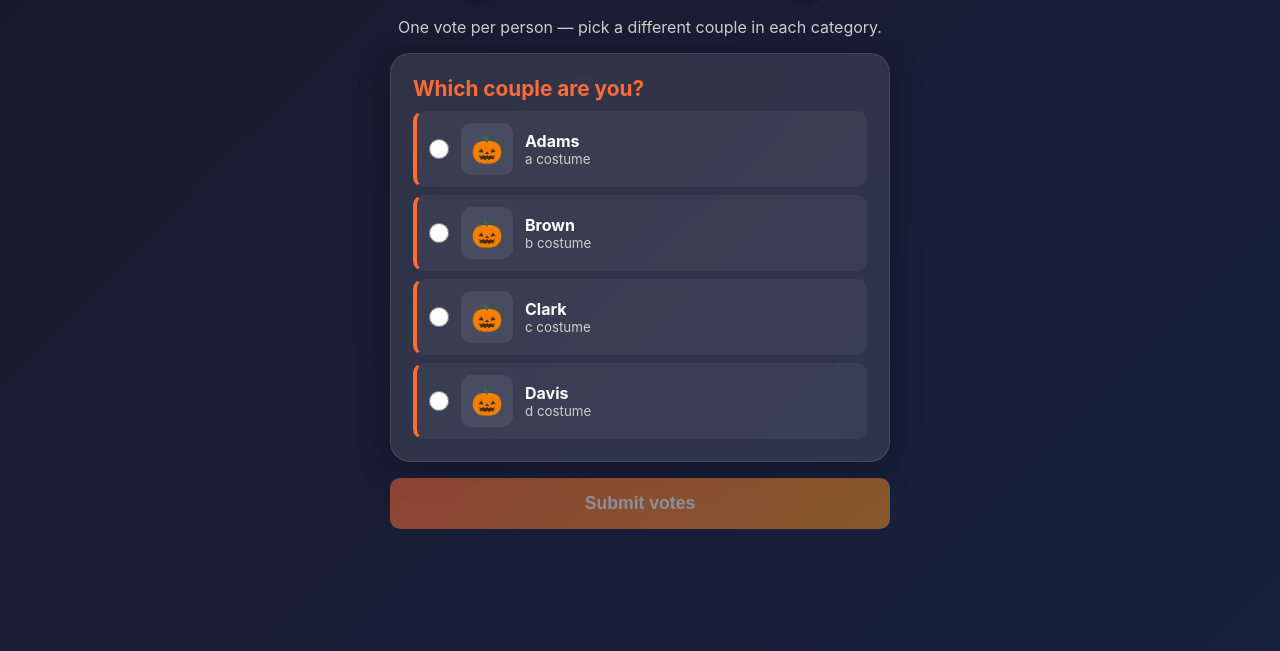
Test case: Vote form › shows an error when both slots are rejected
Click the radio button labelled "🎃 Brown b costume": coordinates (439, 233) top-left (429, 223), bottom-right (449, 243)
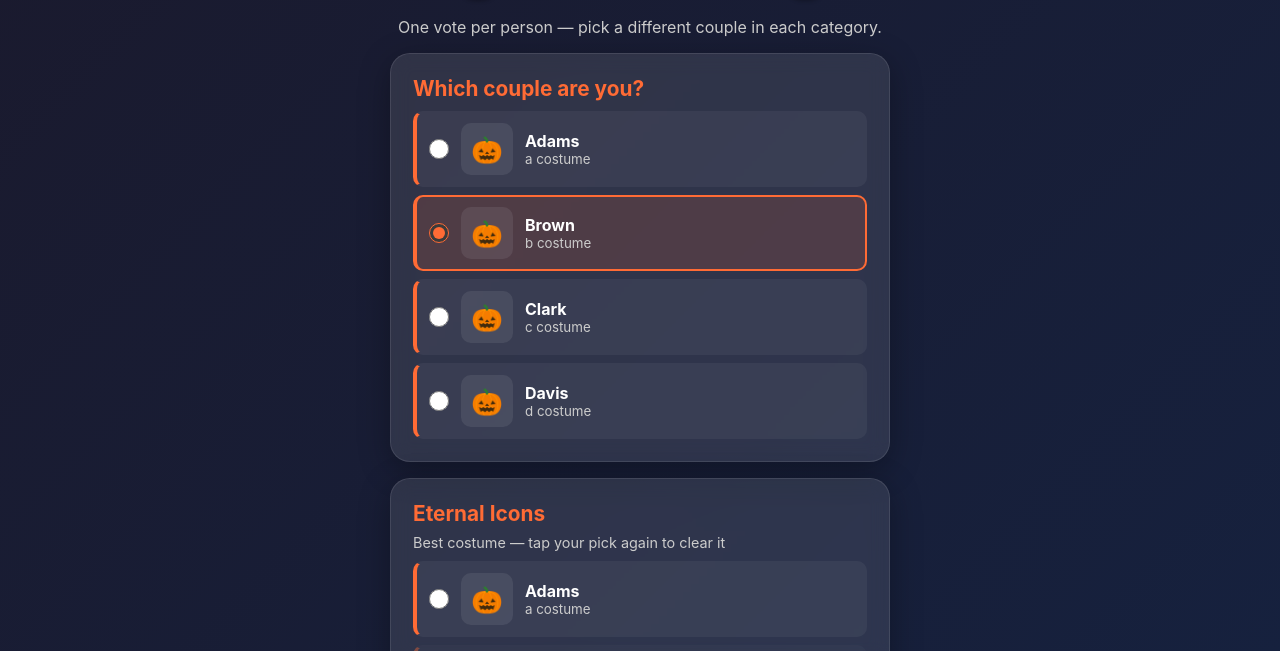
Click the radio button labelled "🎃 Adams a costume" below "Best costume": coordinates (439, 599) top-left (429, 589), bottom-right (449, 609)
(page scrolled)
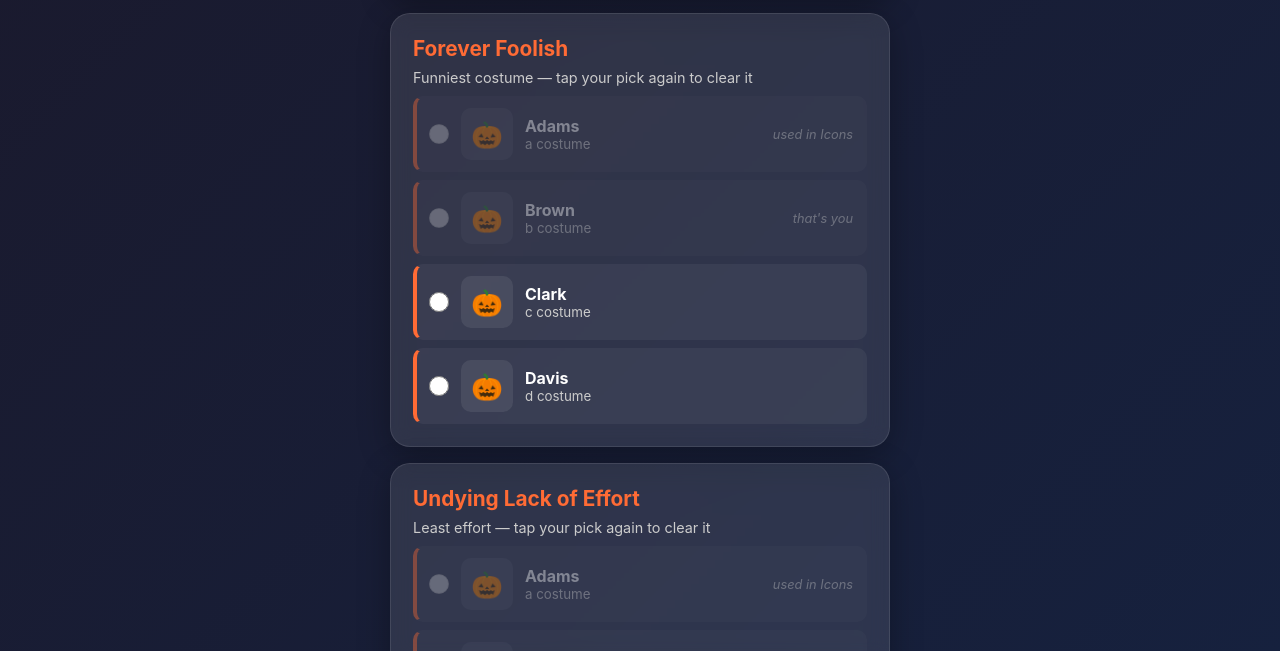
Click the radio button labelled "🎃 Clark c costume": coordinates (439, 302) top-left (429, 292), bottom-right (449, 312)
(page scrolled)
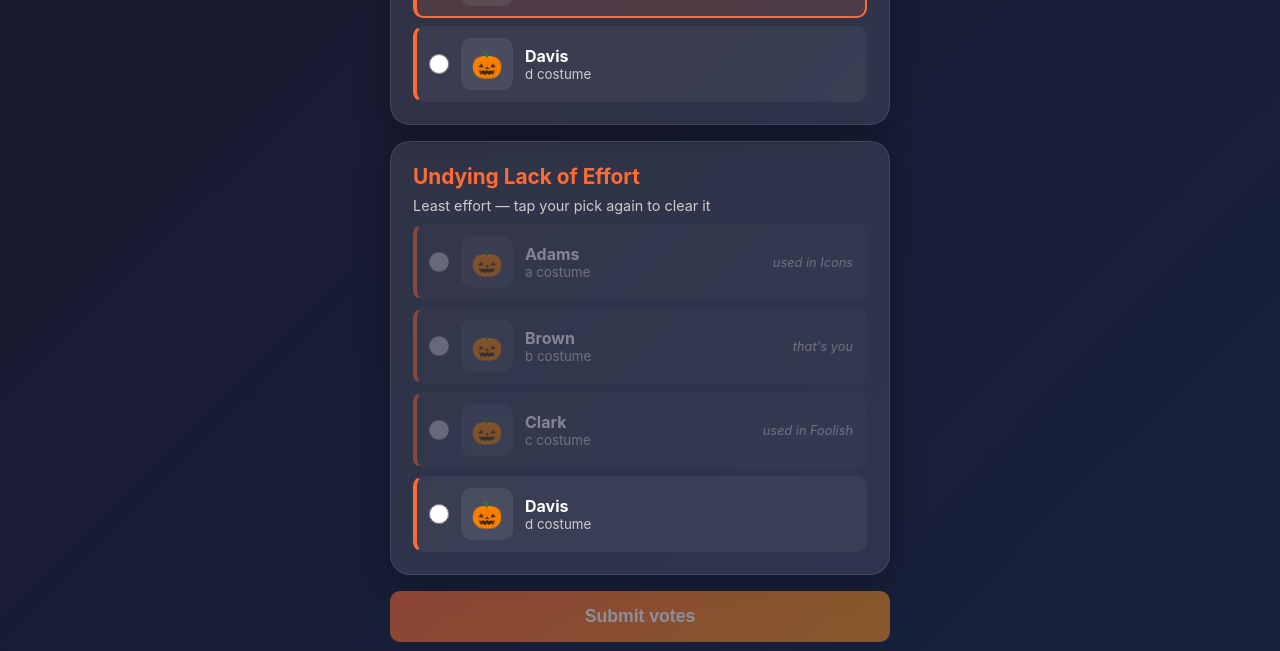
Click the radio button labelled "🎃 Davis d costume" below "Least effort": coordinates (439, 514) top-left (429, 504), bottom-right (449, 524)
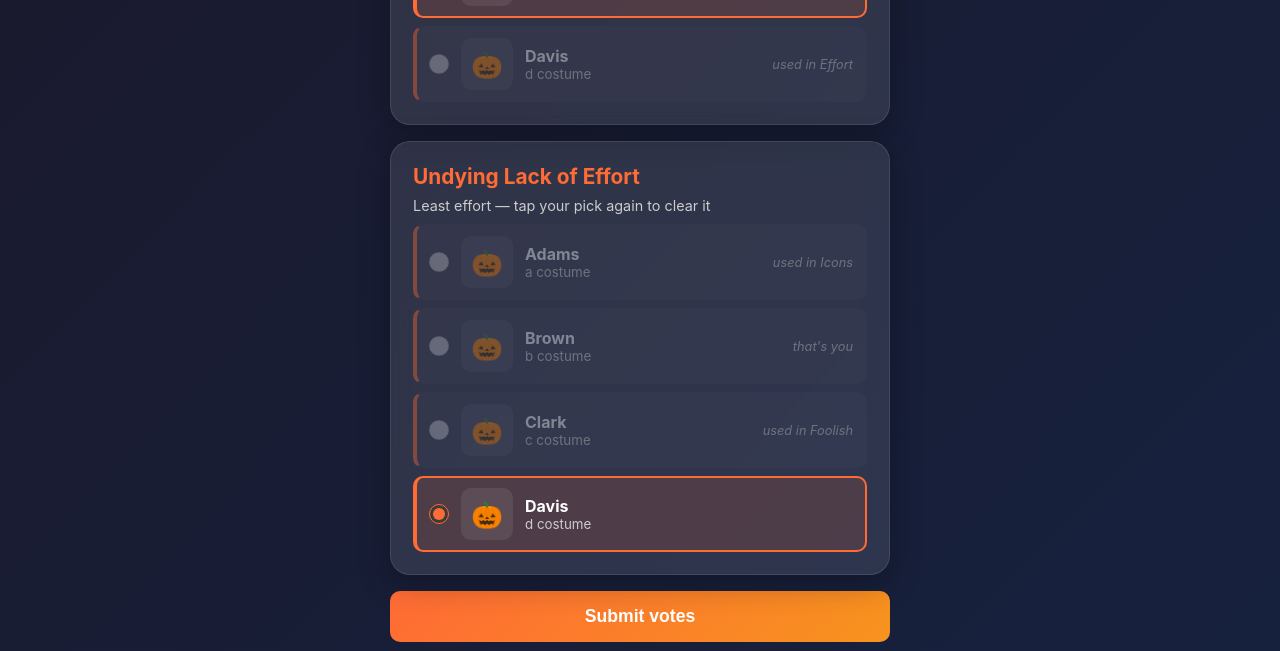
Click the button "Submit votes": coordinates (640, 616) top-left (390, 591), bottom-right (890, 642)
(page scrolled)
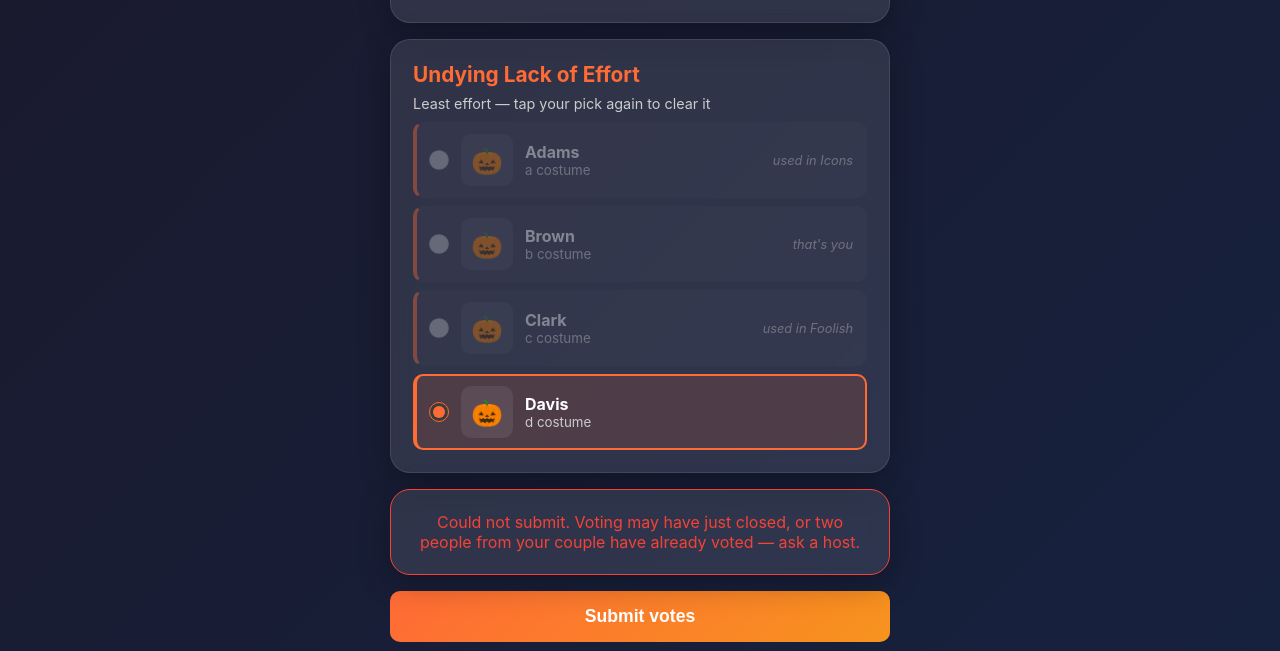
Expected: the button "Submit votes" is enabled, top-left (390, 591), bottom-right (890, 642)
Expected: the text "Could not submit" is shown, top-left (420, 512), bottom-right (860, 552)
